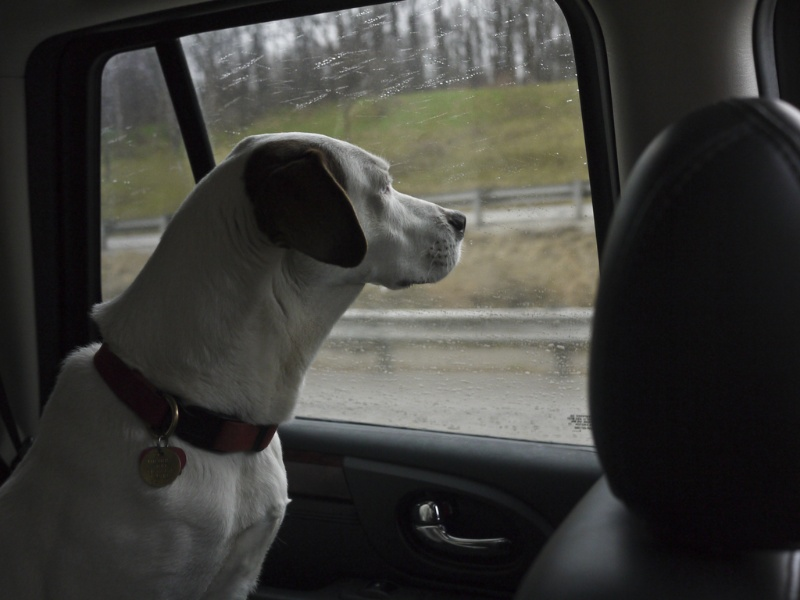dog: (14, 122, 470, 599)
